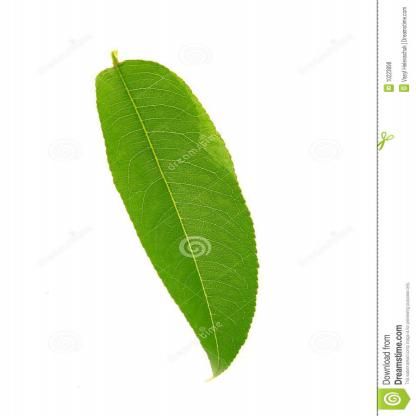peach leaf: (91, 49, 263, 390)
